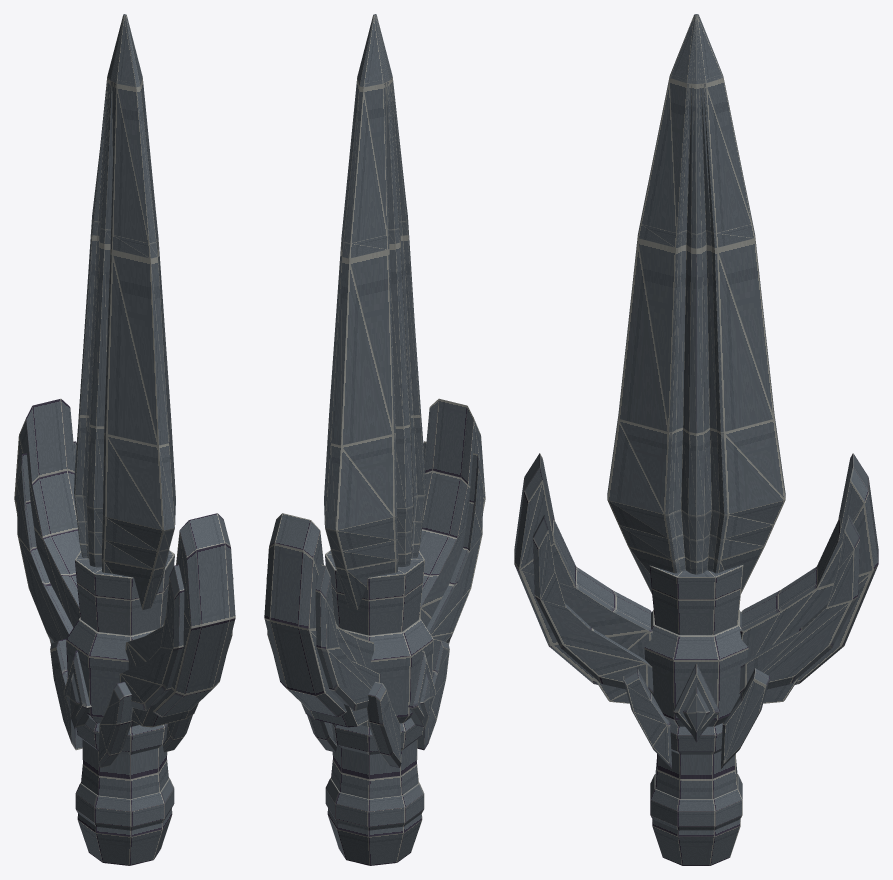
File: workpiece_zhuji_baiqing_lingyun_spear_tempered.obj
3 renders of one model, left to right at view 1: azimuth 30°, elevation 25°; view 2: azimuth 150°, elevation 25°; view 3: azimuth 270°, elevation 25°, orthographic.
Visible parts, largest first — view 1: geometry; view 2: geometry; view 3: geometry.
Part boxes in pixels (box(x1,y1,x2,y2)): geometry: box(14, 14, 235, 865); geometry: box(264, 14, 485, 865); geometry: box(514, 14, 878, 865).
Size of the model in its own units: 0.1279 by 0.925 by 0.365.
